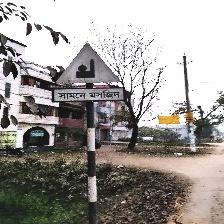Mosque in front: (54, 44, 124, 102)
